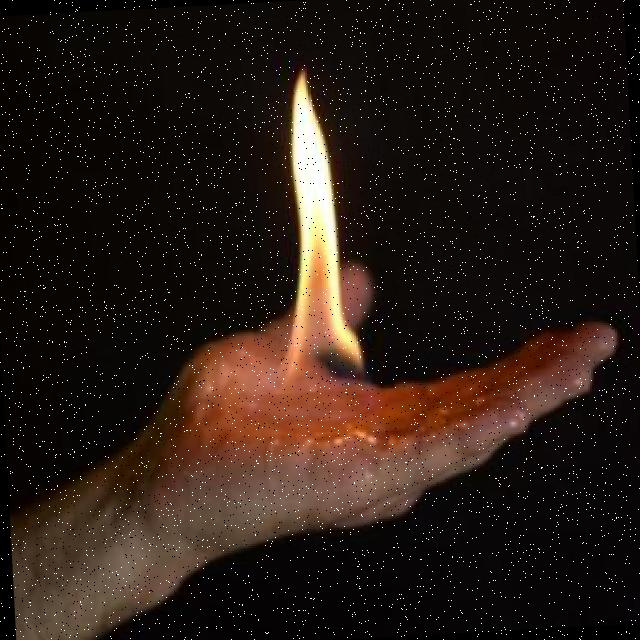fire: (239, 47, 395, 396)
